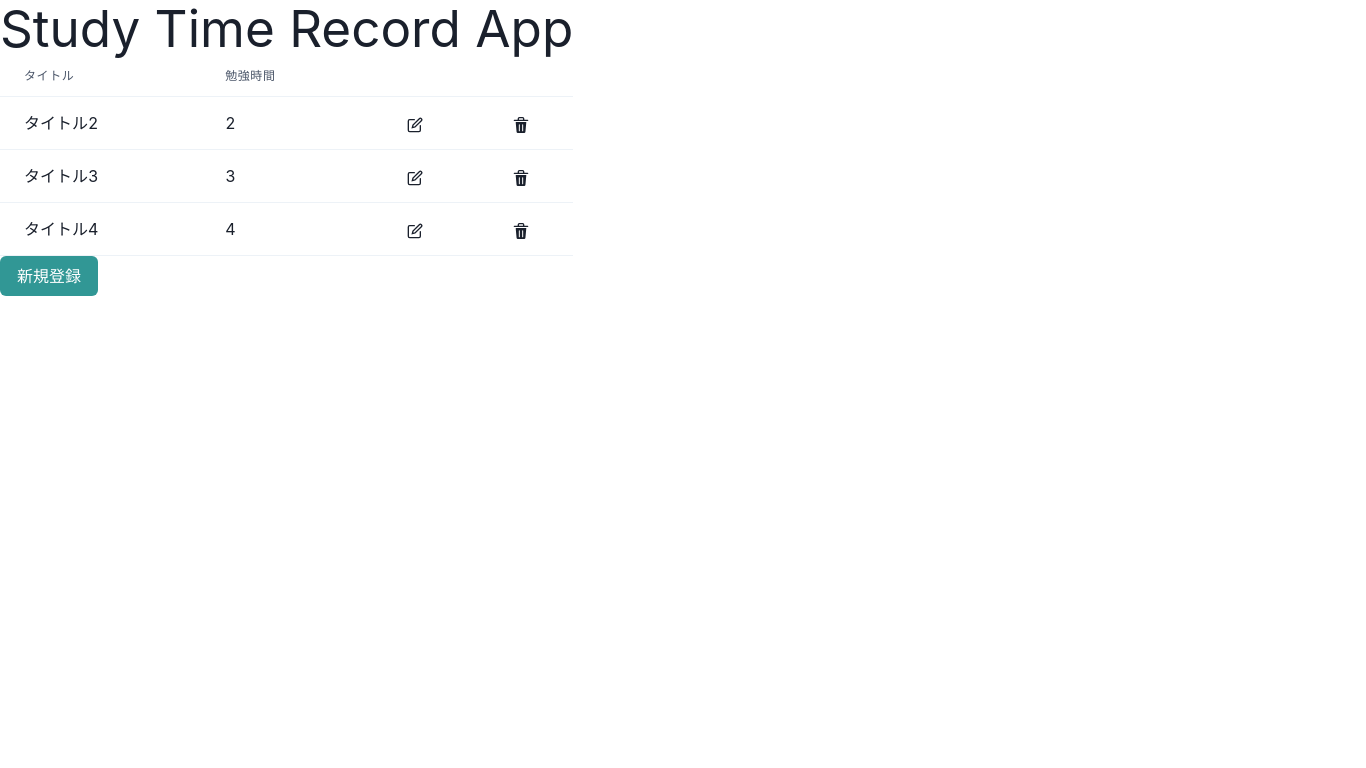
Test case: FormModal › 未入力のエラー
Check: the heading "Study Time Record App" is shown, box left=0, top=0, right=573, bottom=56
Click the button with test id "createButton": [49, 276] box left=0, top=256, right=98, bottom=296
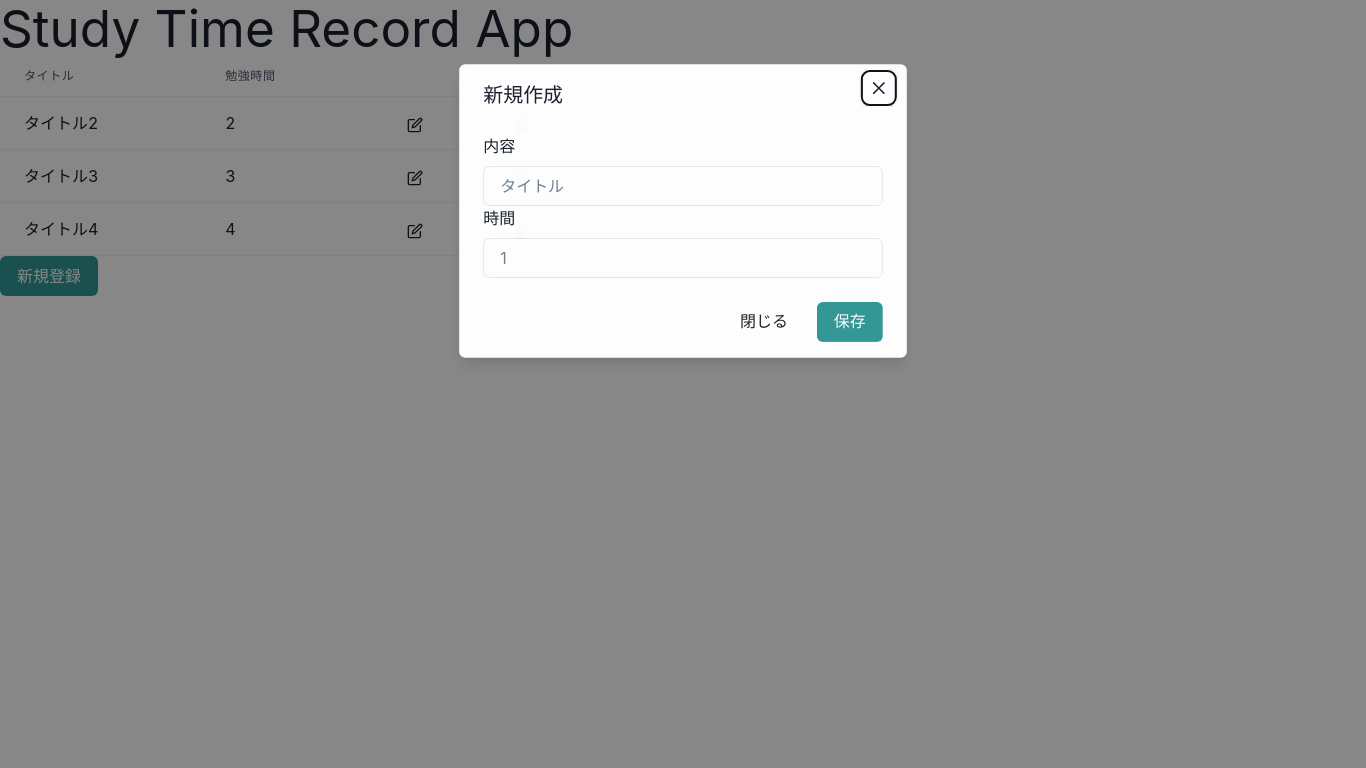
Click the button with test id "save-button": [850, 322] box left=817, top=302, right=883, bottom=342
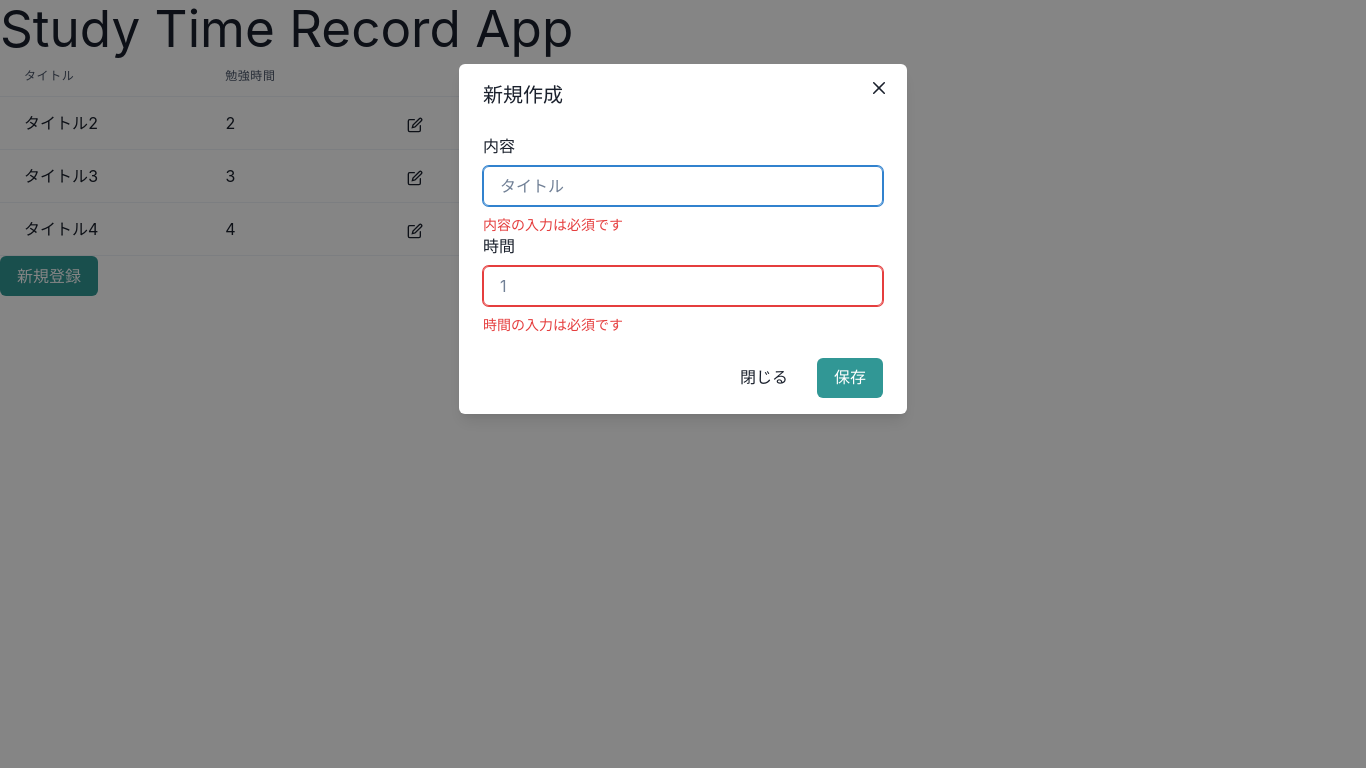
Check: the text "時間の入力は必須です" is shown, box left=483, top=316, right=623, bottom=333
